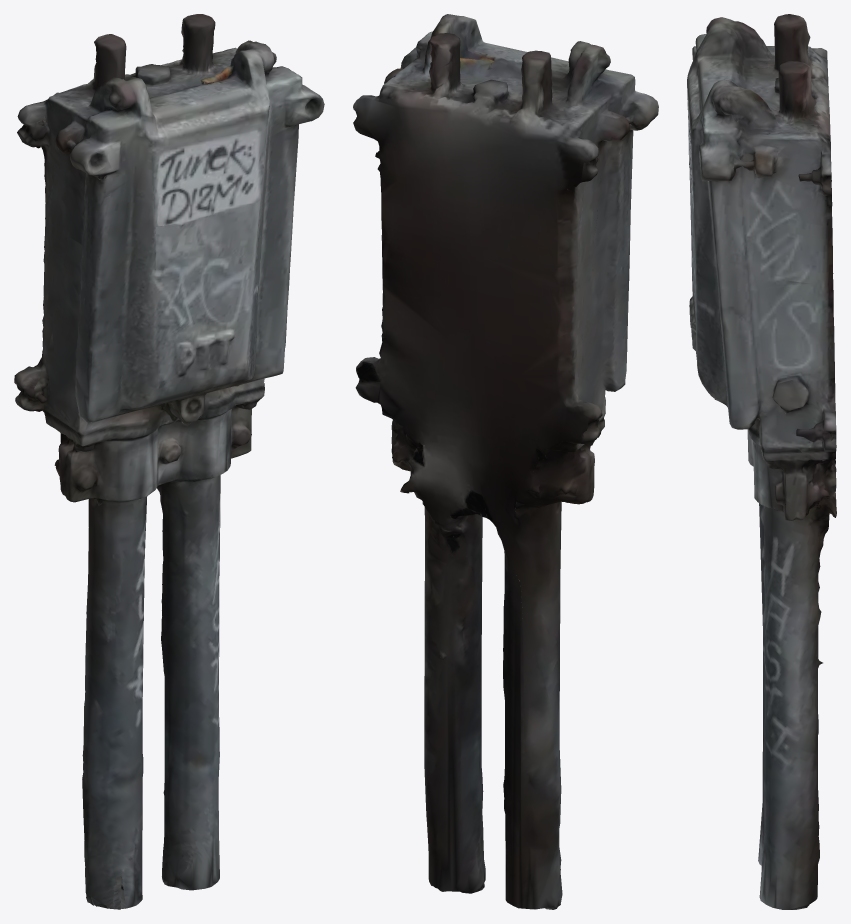
The model's file is s_fusible.glb.
3 renders of one model, left to right at view 1: azimuth 30°, elevation 25°; view 2: azimuth 150°, elevation 25°; view 3: azimuth 270°, elevation 25°, orthographic. The views are drawn at different scales.
Visible parts, largest first — view 1: defaultMaterial; view 2: defaultMaterial; view 3: defaultMaterial.
Boxes of the visible parts, <box> form: defaultMaterial: <box>14,14,324,909</box>; defaultMaterial: <box>353,14,658,909</box>; defaultMaterial: <box>687,14,836,909</box>.
Bounding box in the file's own units: 0.097 × 0.32 × 0.0517.
1 material, 1 textured.
